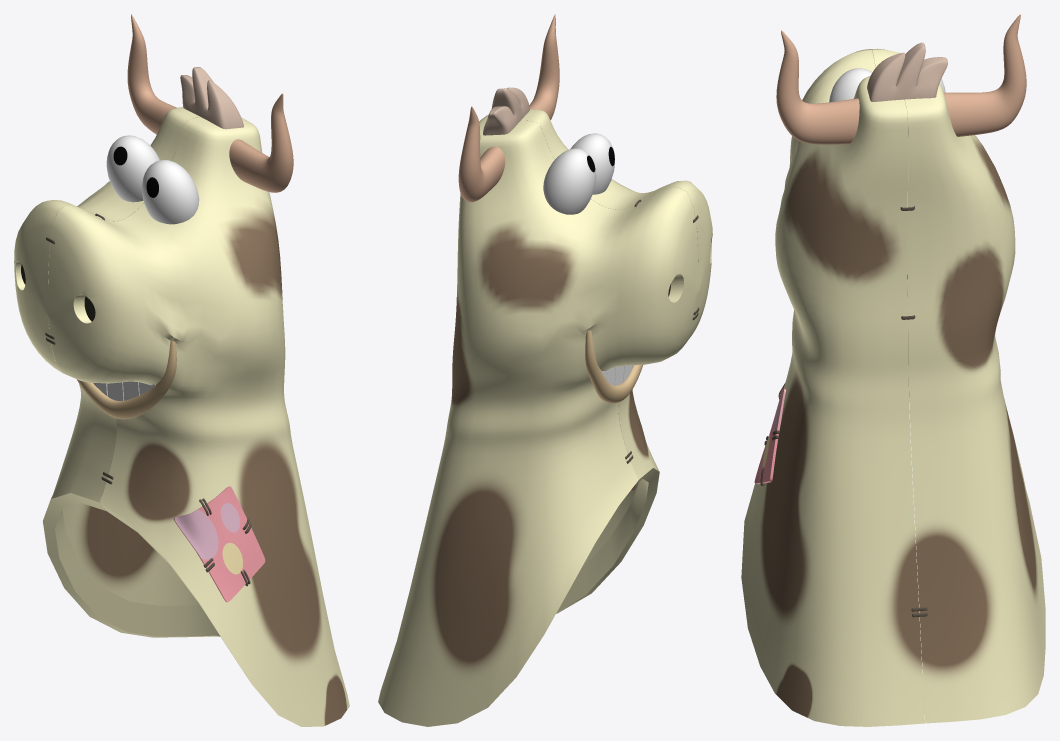
File: asset.gltf
3 views of the same model, side by side, from view 1: azimuth 30°, elevation 25°; view 2: azimuth 150°, elevation 25°; view 3: azimuth 270°, elevation 25° (orthographic). The views are drawn at different scales.
Parts seen in each view (by area): view 1: Plane.001_11_6; view 2: Plane.001_11_6; view 3: Plane.001_11_6.
Boxes of the visible parts, <box> form: Plane.001_11_6: <box>14,14,349,726</box>; Plane.001_11_6: <box>378,14,712,726</box>; Plane.001_11_6: <box>741,14,1045,726</box>.
Size of the model in its own units: 4.19 by 8.86 by 3.76.
10 materials, 2 textured.
